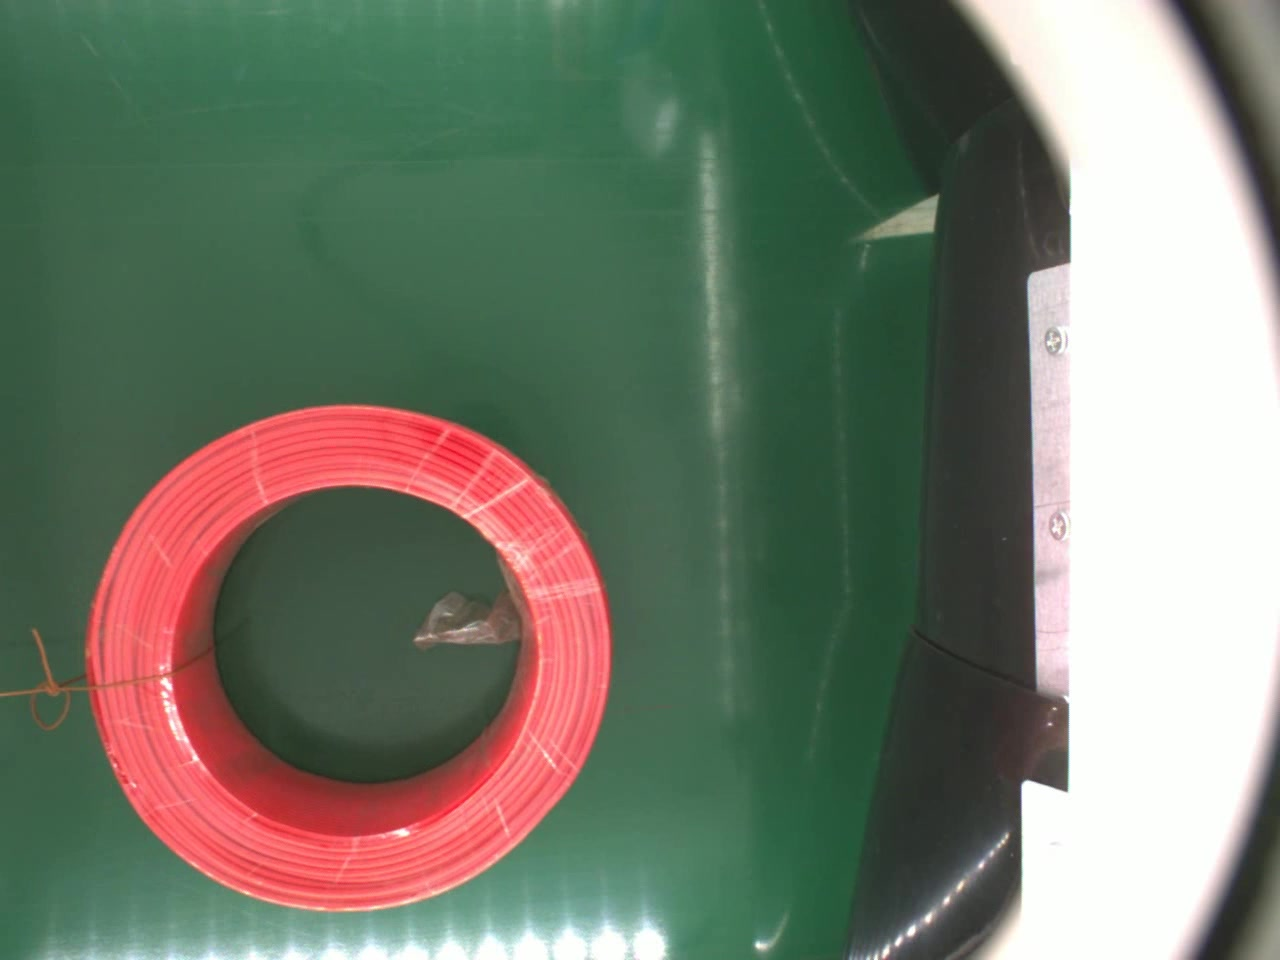red: (87, 403, 605, 913)
